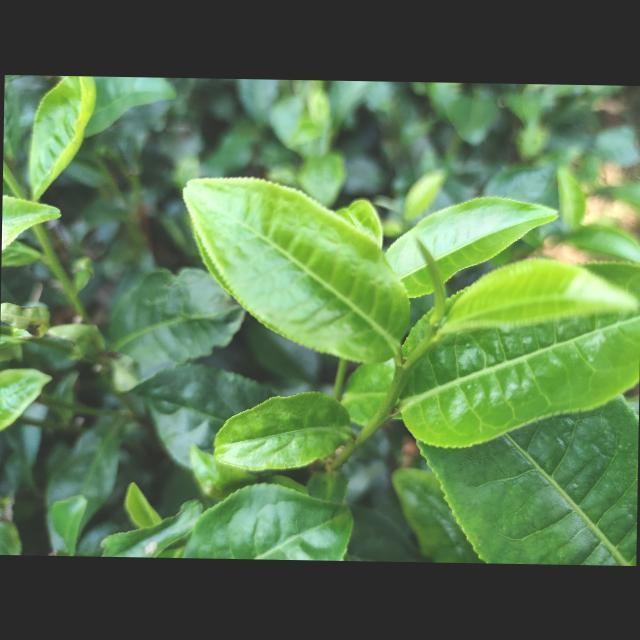Stem: (379, 369, 410, 412)
